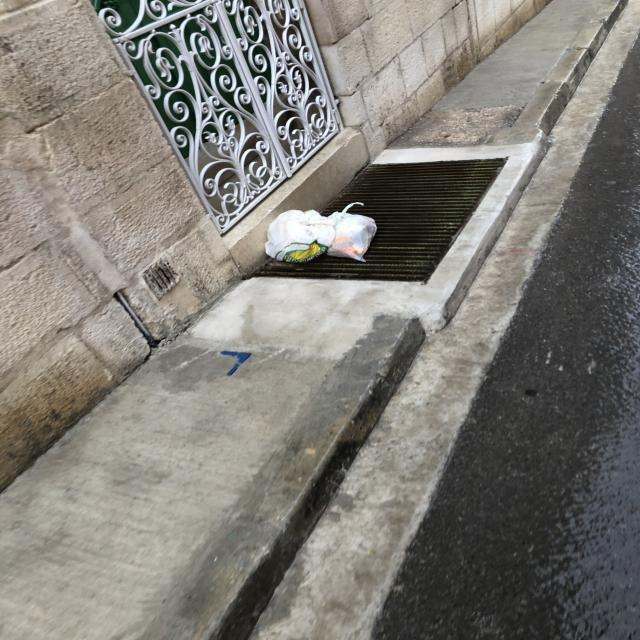Organic Waste -White Bag-: (265, 211, 337, 263), (324, 202, 379, 266)
